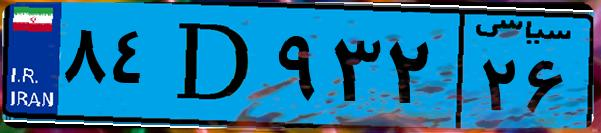2: (385, 28, 445, 110), (475, 38, 525, 113)
3: (330, 28, 385, 110)
4: (110, 28, 158, 98)
6: (525, 38, 570, 115)
8: (57, 26, 110, 100)
9: (270, 28, 330, 110)
D: (158, 12, 270, 120)
